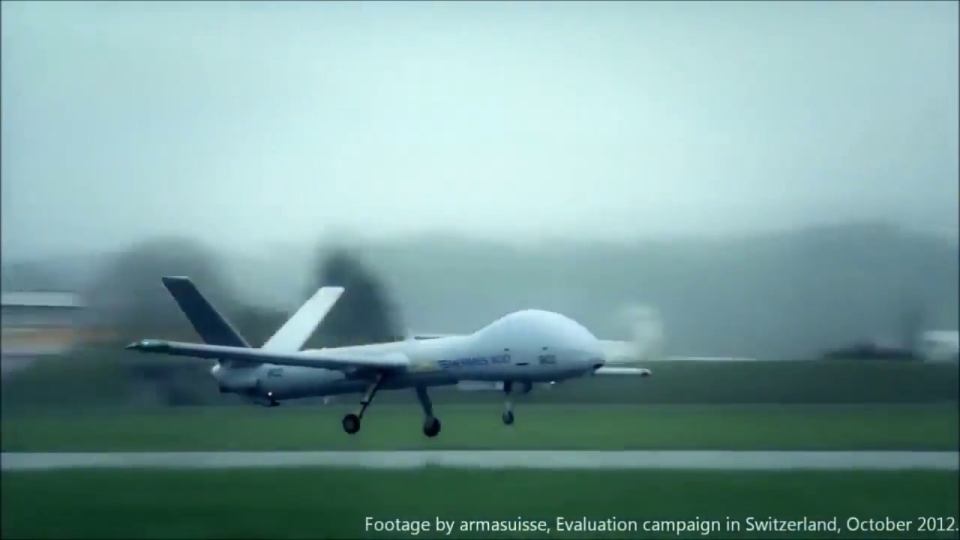military drone: (124, 275, 653, 437)
